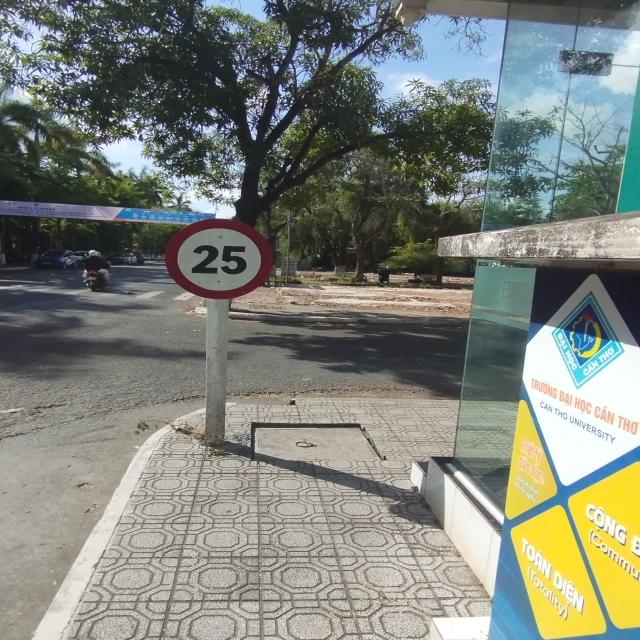Tre_Em: (164, 218, 274, 300)
